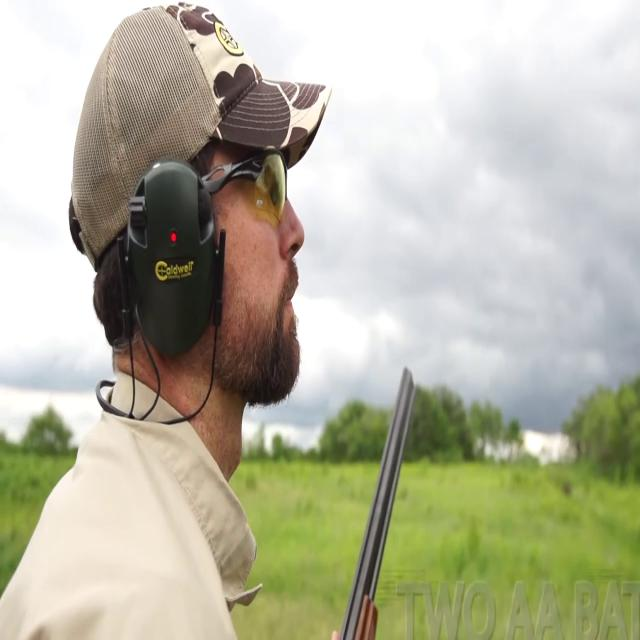earmuff: (114, 155, 228, 361)
glasses: (196, 140, 291, 224)
